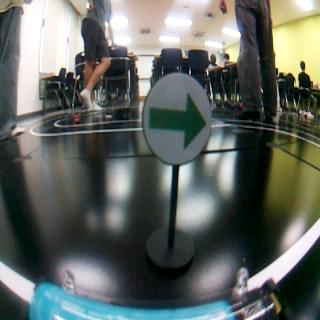right: (146, 74, 207, 160)
